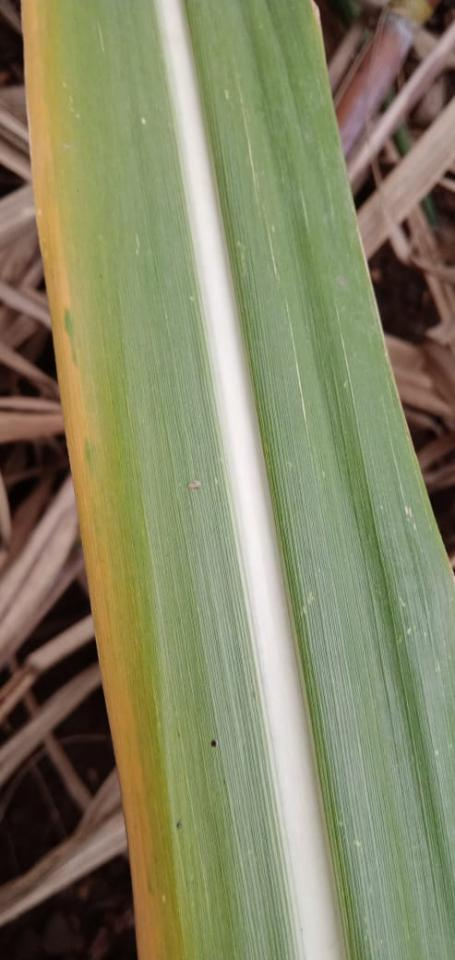Rust: (209, 739, 219, 748), (175, 821, 183, 830)
Yellow: (21, 0, 163, 959)
